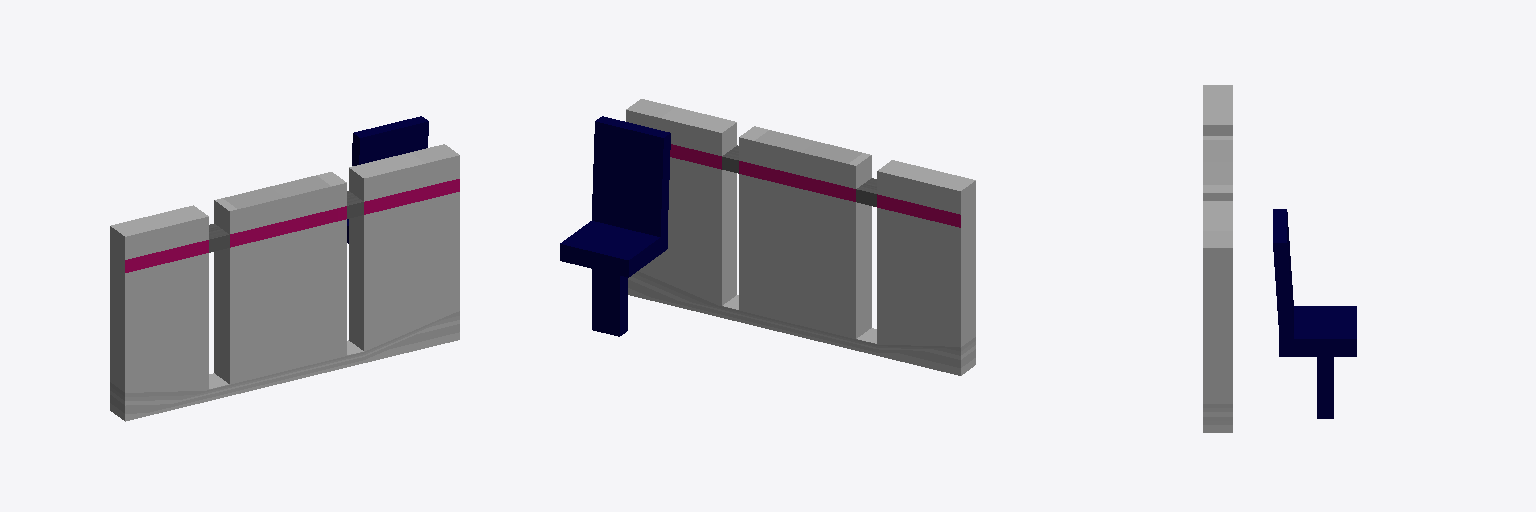
The picture shows the model from 3 angles: view 1: azimuth 30°, elevation 25°; view 2: azimuth 150°, elevation 25°; view 3: azimuth 270°, elevation 25°; orthographic projection.
Parts seen in each view (by area): view 1: 立方体.001, 立方体; view 2: 立方体.001, 立方体; view 3: 立方体.001, 立方体.
Boxes of the visible parts, x1,y1,x2,y2 form: 立方体.001: [110, 144, 459, 421]; 立方体: [347, 116, 428, 243]; 立方体.001: [626, 99, 975, 375]; 立方体: [560, 116, 670, 336]; 立方体.001: [1203, 85, 1232, 432]; 立方体: [1273, 209, 1356, 418].
Size of the model in its own units: 2.02 by 1.1 by 0.8.
2 materials, 1 textured.